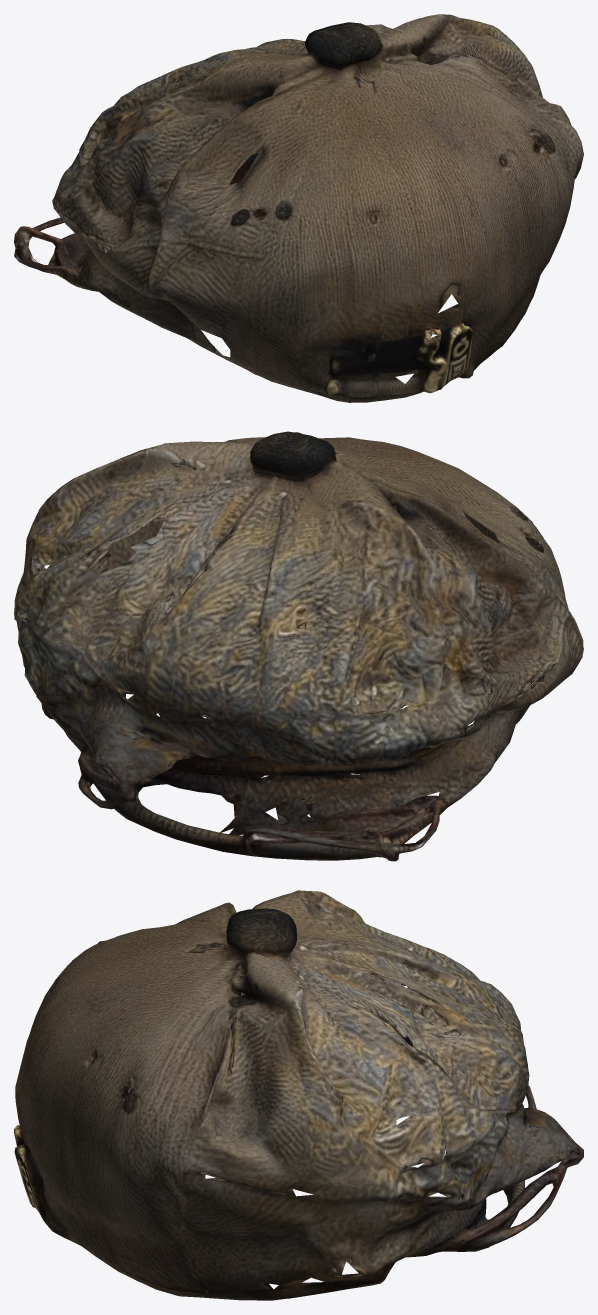
Rendered from prop_sluice_flatcap.glb.
3 views of the same model, one above another, from view 1: azimuth 30°, elevation 25°; view 2: azimuth 150°, elevation 25°; view 3: azimuth 270°, elevation 25° (orthographic). The views are drawn at different scales.
Bounding box in the file's own units: 0.1458 × 0.09 × 0.1485.
1 material, 1 textured.
